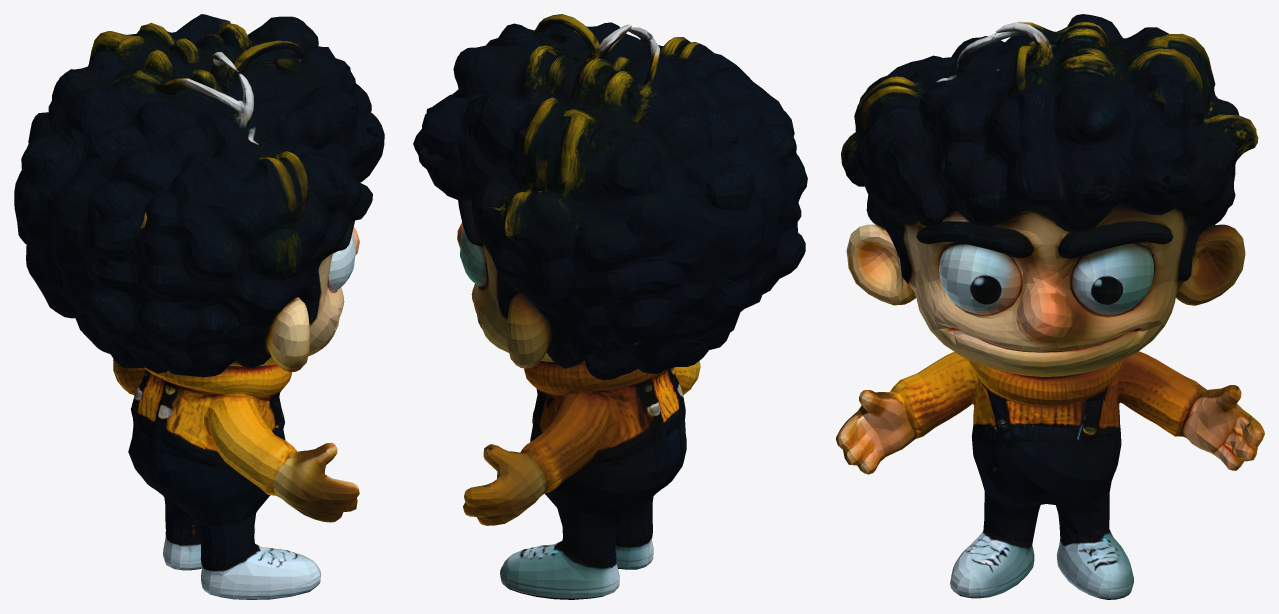
File: MarionetaLowRes.glb
3 renders of one model, left to right at view 1: azimuth 30°, elevation 25°; view 2: azimuth 150°, elevation 25°; view 3: azimuth 270°, elevation 25°, orthographic. The views are drawn at different scales.
Visible parts, largest first — view 1: tripo_node_f18a9b8e-9f75-4f44-9bf8-5f571076229d; view 2: tripo_node_f18a9b8e-9f75-4f44-9bf8-5f571076229d; view 3: tripo_node_f18a9b8e-9f75-4f44-9bf8-5f571076229d.
Part boxes in pixels (x1,y1,x2,y2): tripo_node_f18a9b8e-9f75-4f44-9bf8-5f571076229d: [14, 14, 384, 599]; tripo_node_f18a9b8e-9f75-4f44-9bf8-5f571076229d: [413, 14, 807, 599]; tripo_node_f18a9b8e-9f75-4f44-9bf8-5f571076229d: [836, 14, 1264, 599].
Bounding box in the file's own units: 0.6353 × 0.9988 × 0.7117.
1 material, 1 textured.
